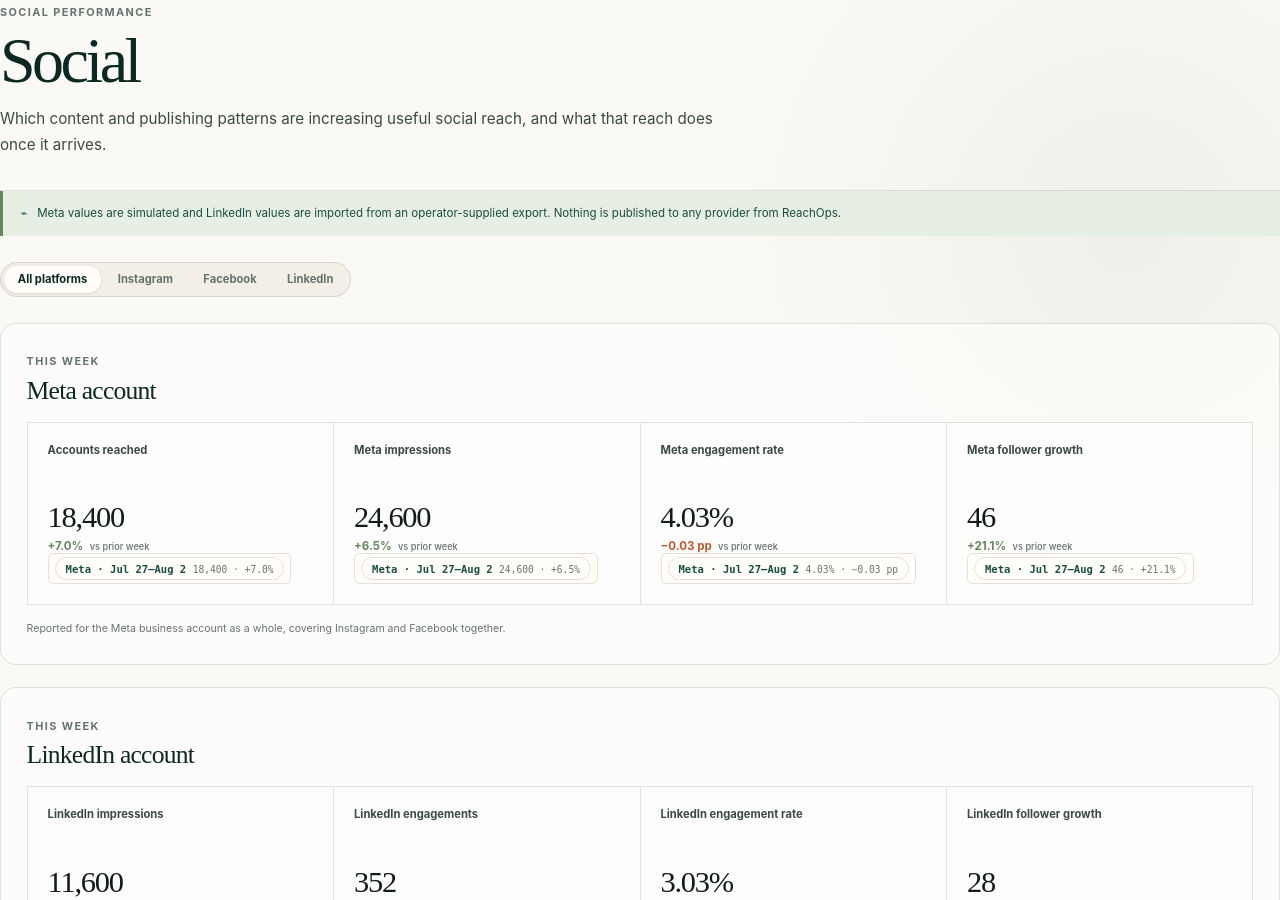
Test: SocialWorkspaceView › labels each post with the provenance of its source
The width and height of the screenshot is (1280, 900).
Click the button "LinkedIn": (310, 279) [274,266,347,293]
(page scrolled)
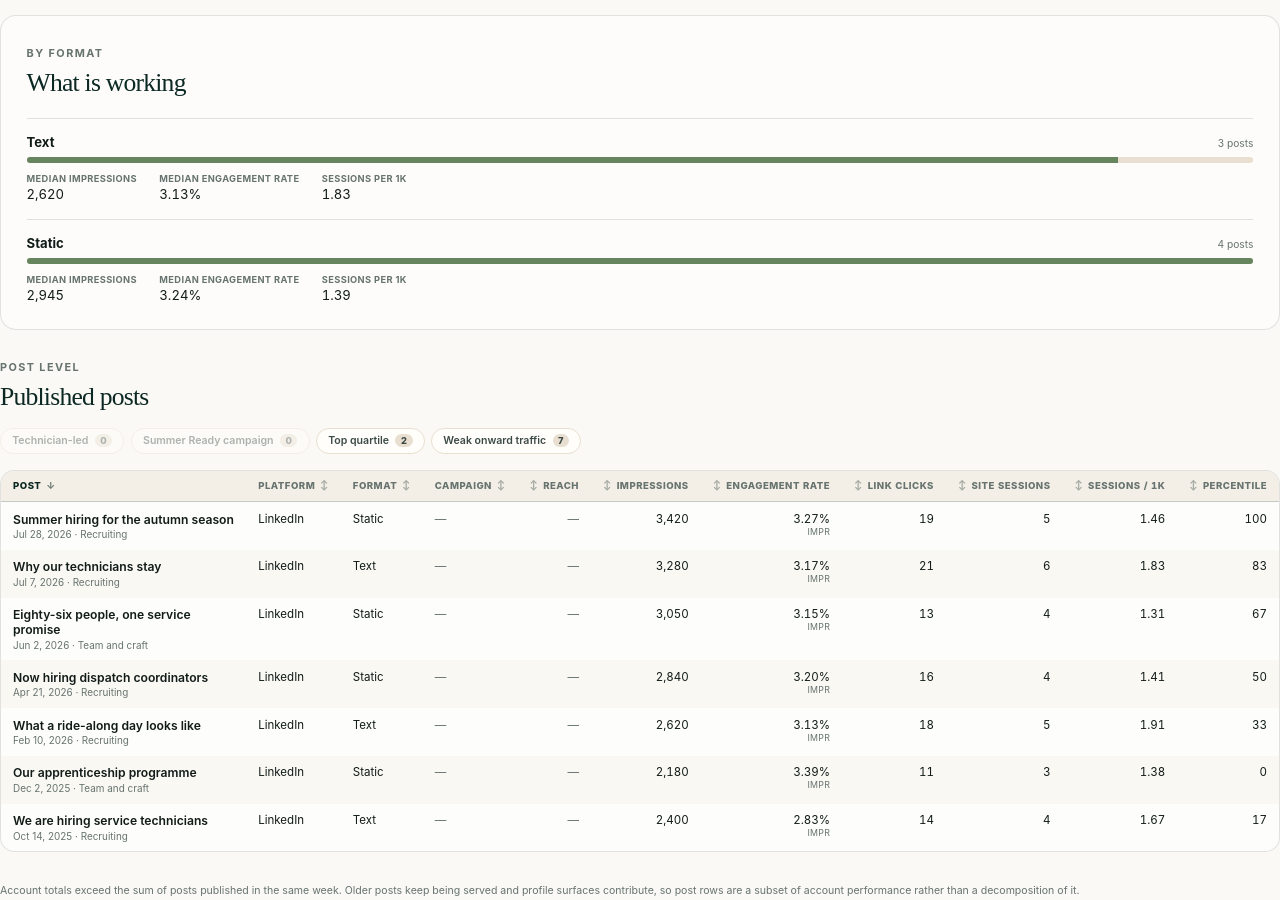
Click the button "Why our technicians stay Jul 7, 2026 · Recruiting": (87, 574) [13,559,162,588]
(page scrolled)
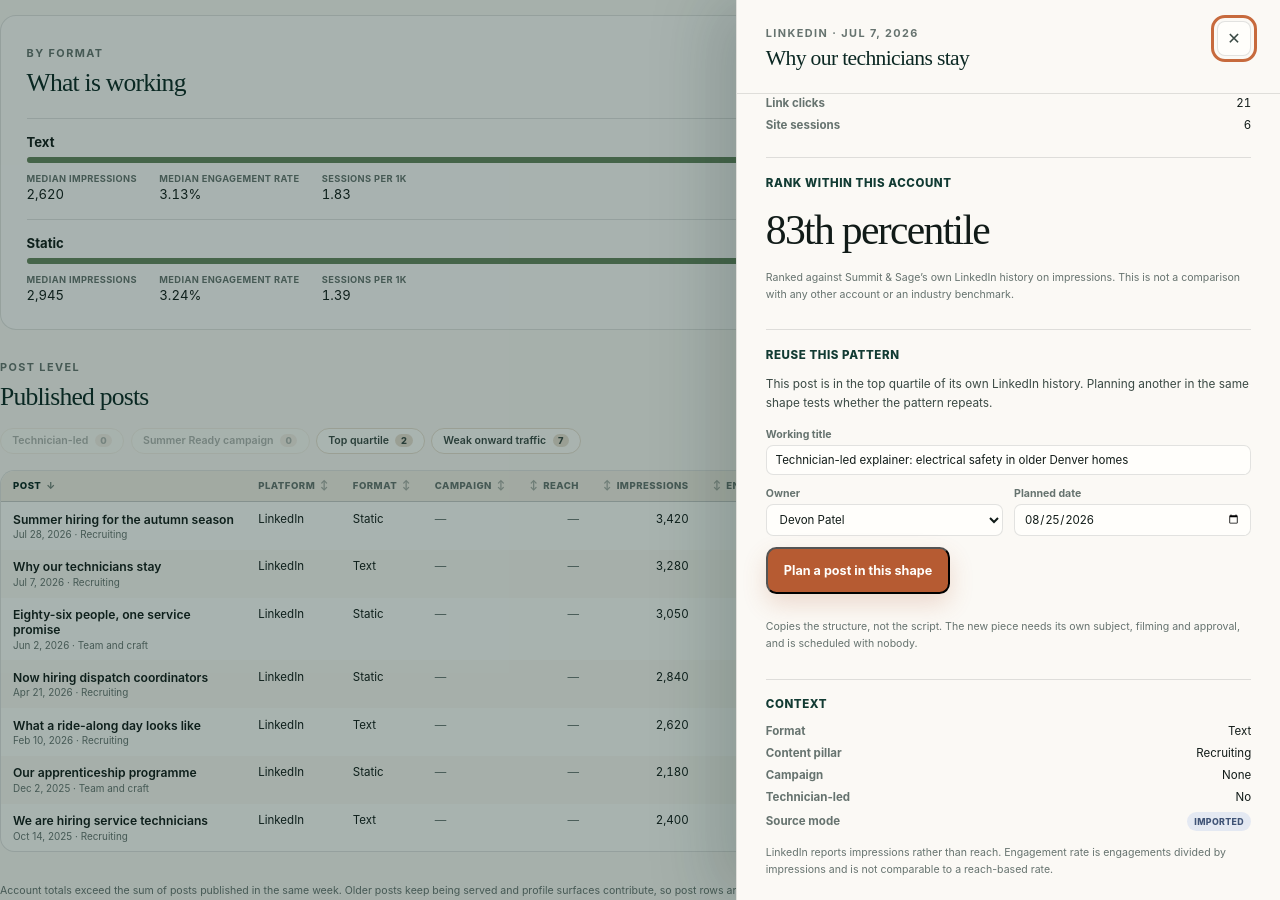
Now the text "Imported" is shown, box [1187,812,1251,831]
Now the text "reports impressions rather than reach" is shown, box [766,846,1226,876]
